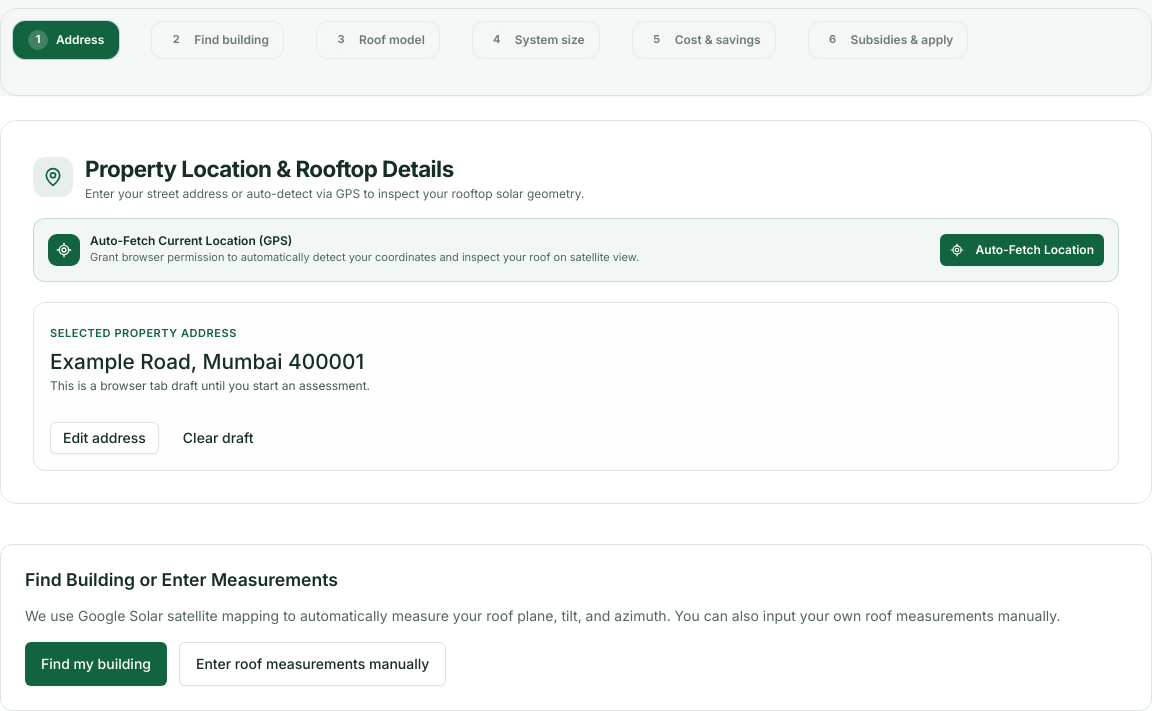
it: roof analysis flow › validates manual measurements and saves them without Google lookup
(page scrolled)
Check: the text "Example Road, Mumbai 400001" is shown, box [50,346,370,378]
Click the button "Enter roof measurements manually" at (313, 664), box [179,642,446,686]
(page scrolled)
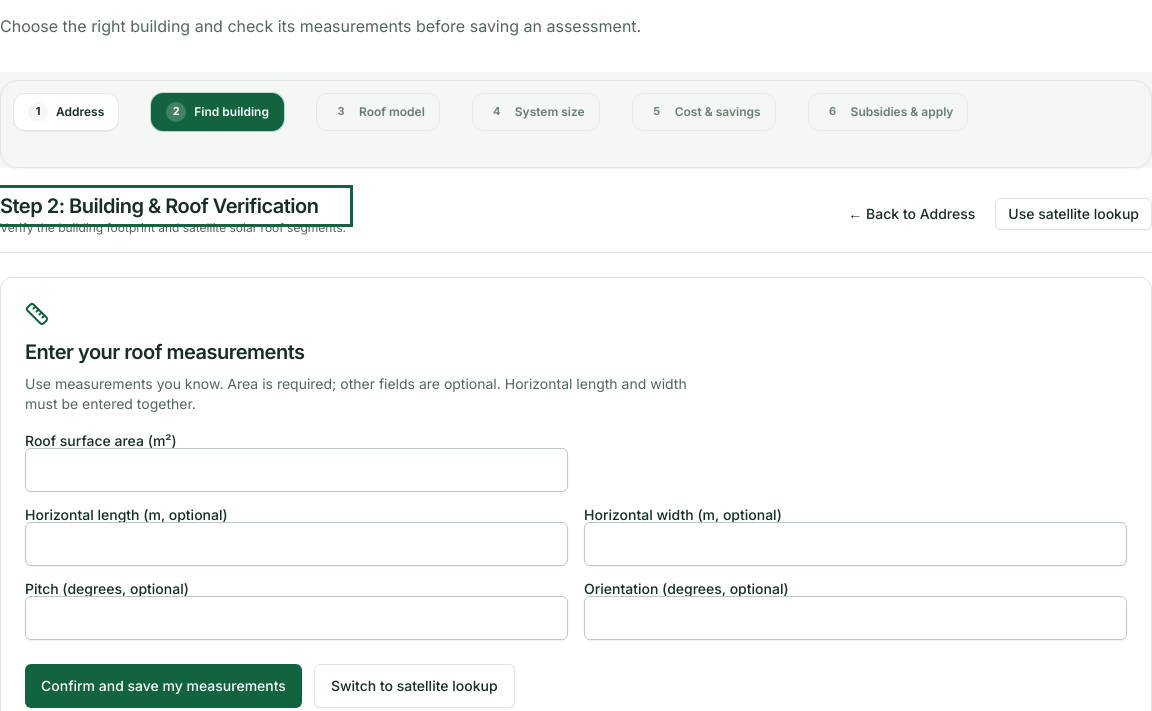
Click the button "Confirm and save my measurements" at (163, 686), box [25,664,302,708]
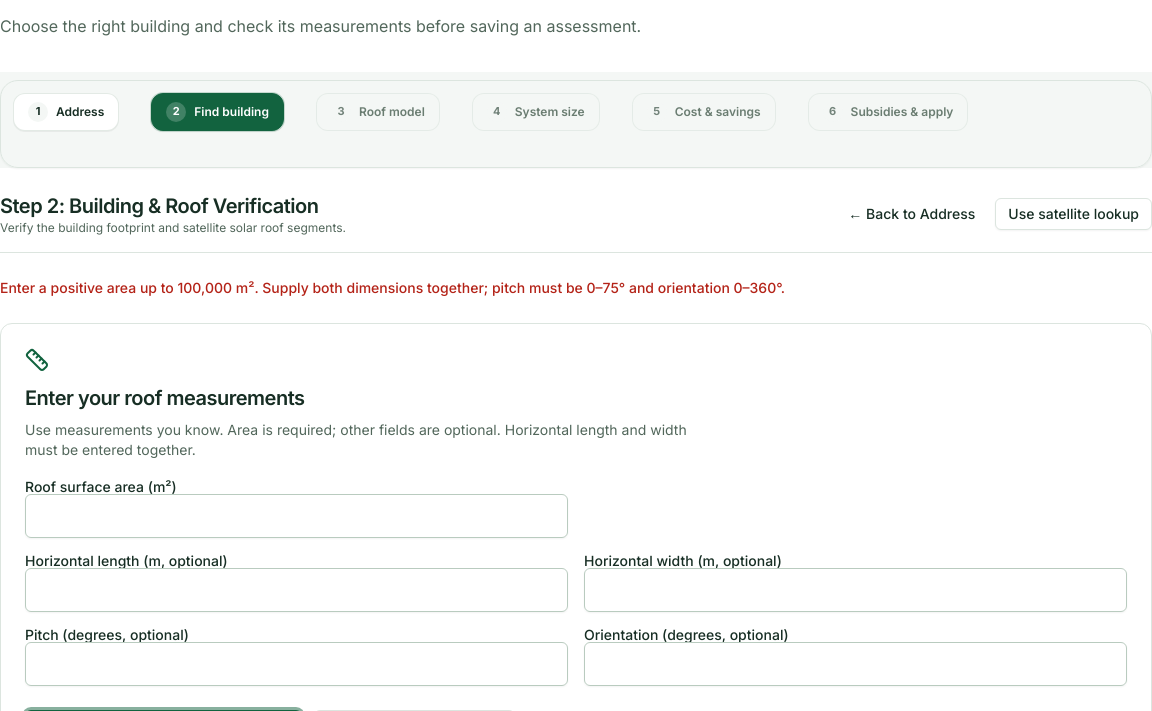
Check: the message shows "positive area", box [0,279,785,296]
Type "35" into the number field labelled "Roof surface area (m²)" at (296, 516), box [25,494,568,538]
(page scrolled)
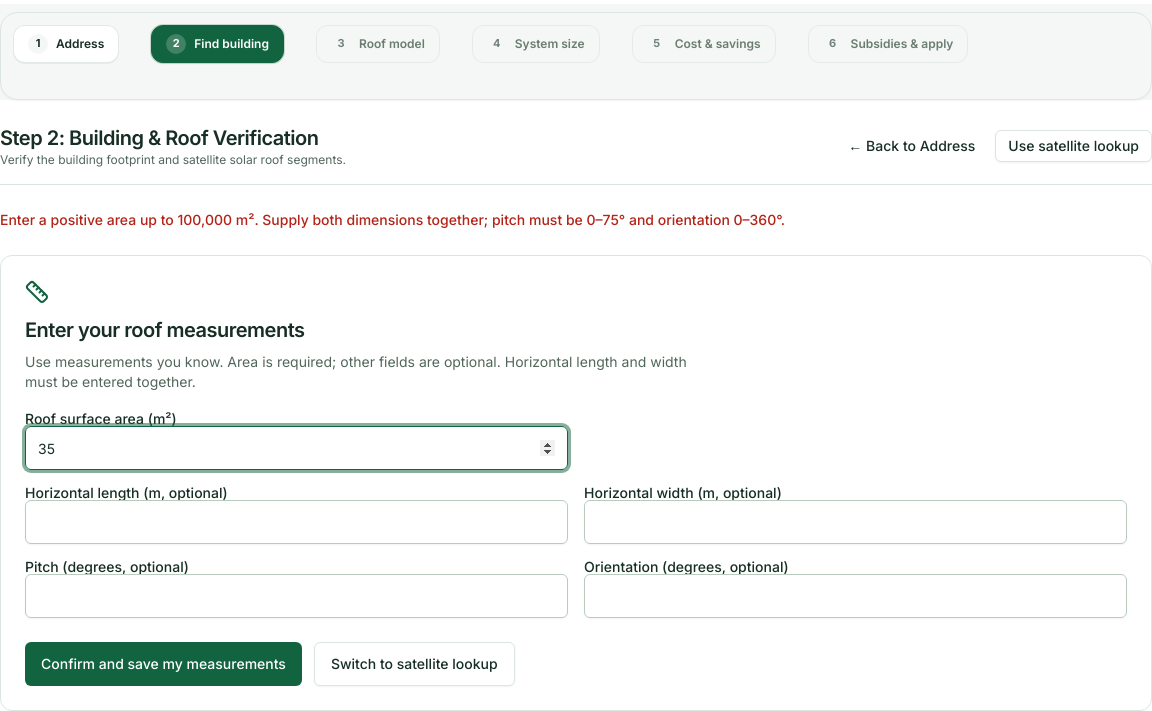
Click the button "Confirm and save my measurements" at (163, 664), box [25,642,302,686]
(page scrolled)
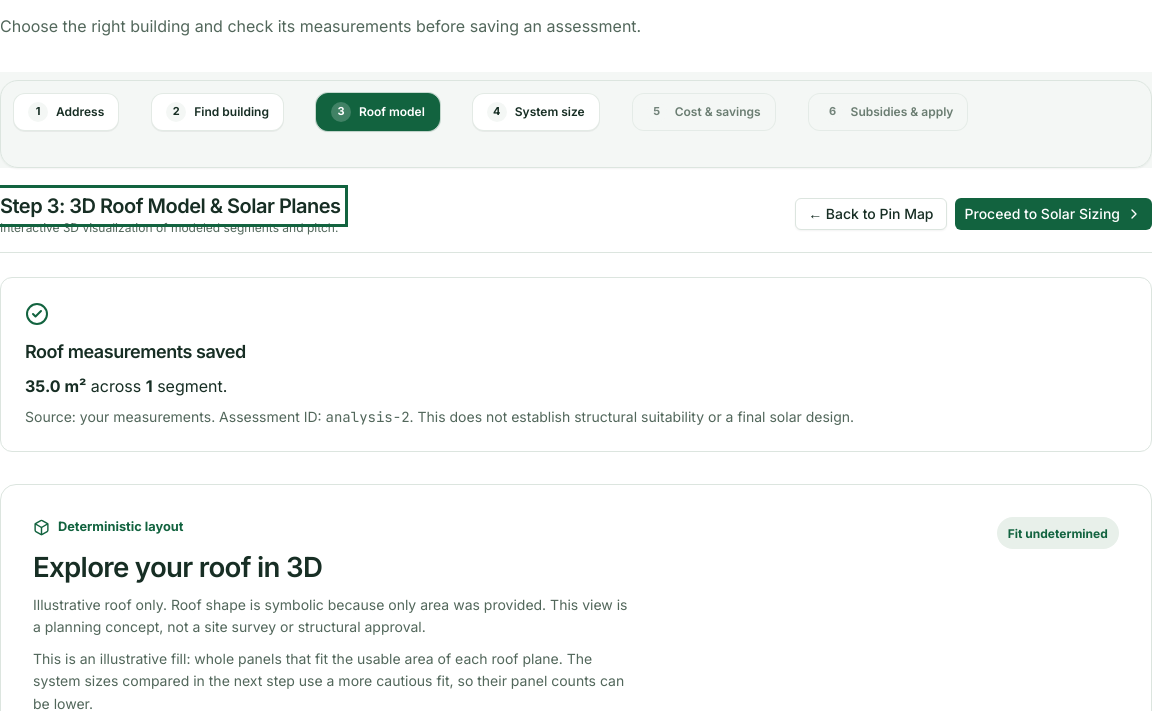
Check: the heading "Roof measurements saved" is shown, box [25,341,246,362]
